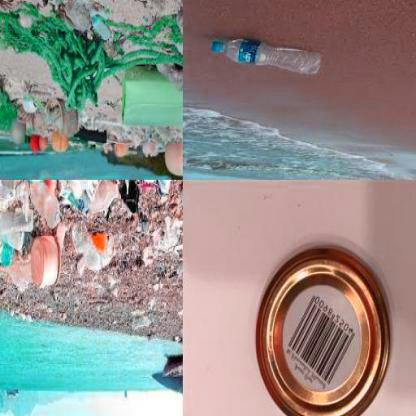Metal: (249, 247, 395, 416)
Plastic: (209, 36, 324, 82), (120, 67, 188, 124), (32, 231, 60, 288), (31, 180, 61, 228), (0, 210, 36, 238)
